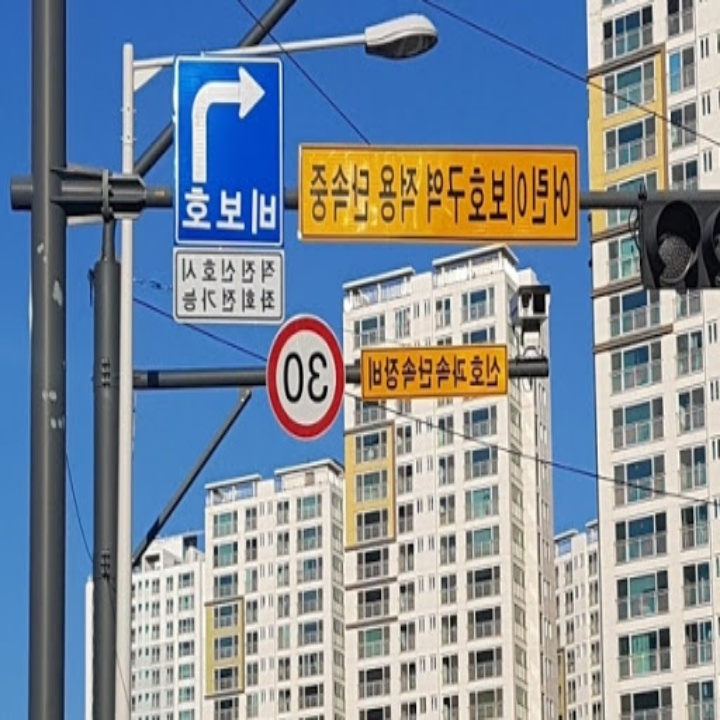right: (185, 65, 267, 181)
